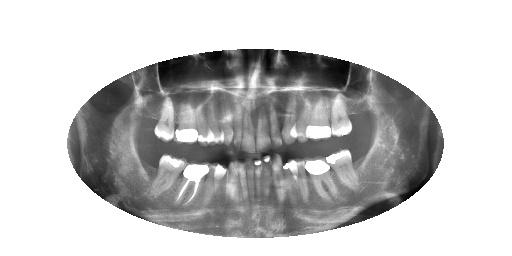Fillings: (153, 154, 188, 195), (305, 157, 337, 200), (326, 149, 358, 190), (306, 96, 331, 140), (176, 100, 198, 144)
Implant: (174, 162, 210, 206)
